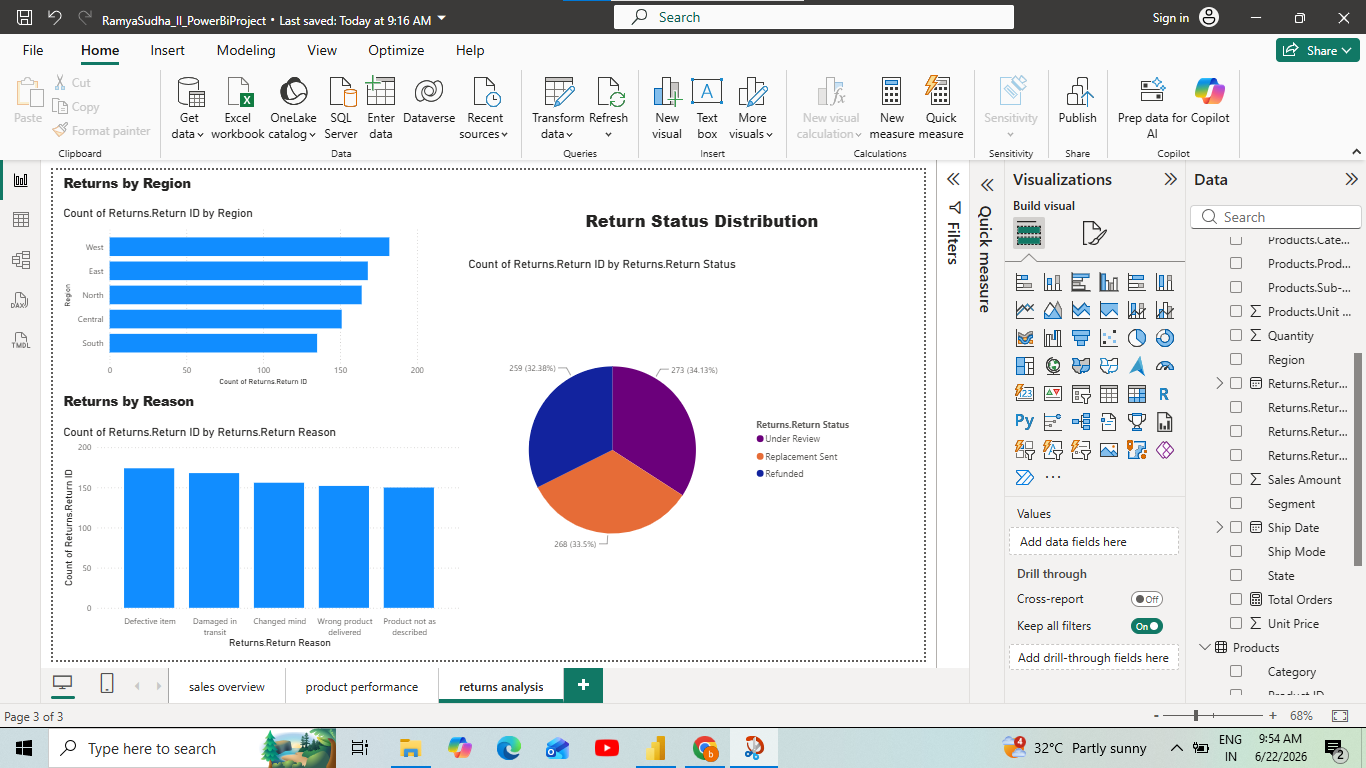

What the dashboard file says about the page in this screenshot:
{"tool":"powerbi","page":{"name":"returns analysis","canvas":[1280,720],"ordinal":2},"visuals":[{"type":"textbox","box":[10.1,0,279.4,40.3],"z":0},{"type":"clusteredBarChart","fields":{"Category":["Orders.Region"],"Y":["CountNonNull(Orders.Returns.Return ID)"]},"box":[10,52.9,540,268.6],"z":1000},{"type":"textbox","box":[10.1,321.1,250.6,38.9],"z":2000},{"type":"clusteredColumnChart","fields":{"Category":["Orders.Returns.Return Reason"],"Y":["CountNonNull(Orders.Returns.Return ID)"]},"box":[10,374.3,595.7,332.9],"z":3000},{"type":"textbox","box":[777.6,53.3,462.2,63.4],"z":4000},{"type":"pieChart","fields":{"Category":["Orders.Returns.Return Status"],"Y":["CountNonNull(Orders.Returns.Return ID)"]},"box":[605.7,128.6,581.4,548.6],"z":5000}]}

Visuals, with their boxes on the page's 1280x720 design canvas (x1, y1, x2, y2). These are canvas units, not pixel positions in the 1366x768 screenshot, which may show the page scaled, cropped or inside an application window:
textbox: x1=10 y1=0 x2=290 y2=40
clusteredBarChart - Orders.Region x CountNonNull(Orders.Returns.Return ID): x1=10 y1=53 x2=550 y2=322
textbox: x1=10 y1=321 x2=261 y2=360
clusteredColumnChart - Orders.Returns.Return Reason x CountNonNull(Orders.Returns.Return ID): x1=10 y1=374 x2=606 y2=707
textbox: x1=778 y1=53 x2=1240 y2=117
pieChart - Orders.Returns.Return Status x CountNonNull(Orders.Returns.Return ID): x1=606 y1=129 x2=1187 y2=677
